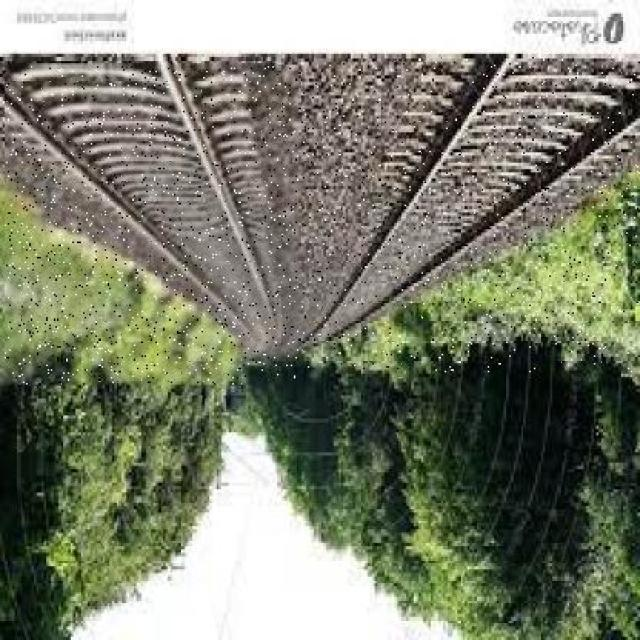rail: (279, 58, 640, 376), (6, 67, 299, 384)
